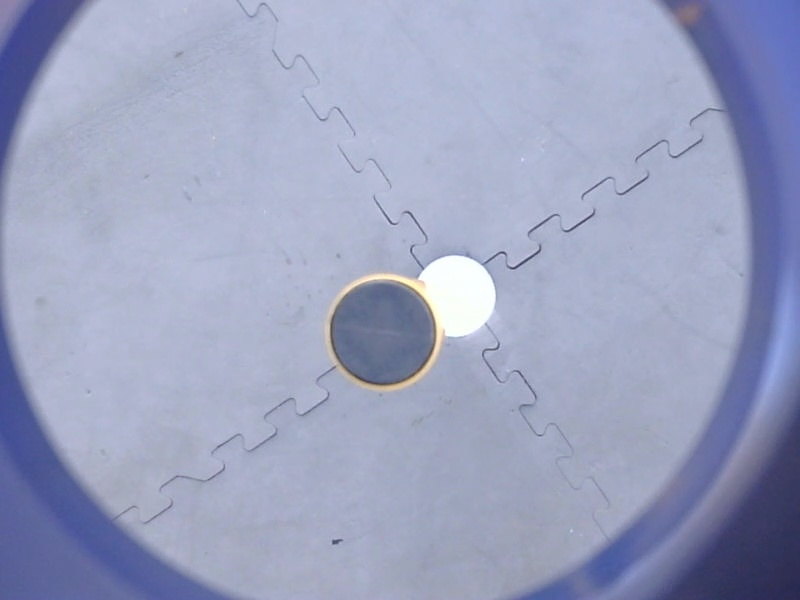tip: (318, 270, 447, 399)
